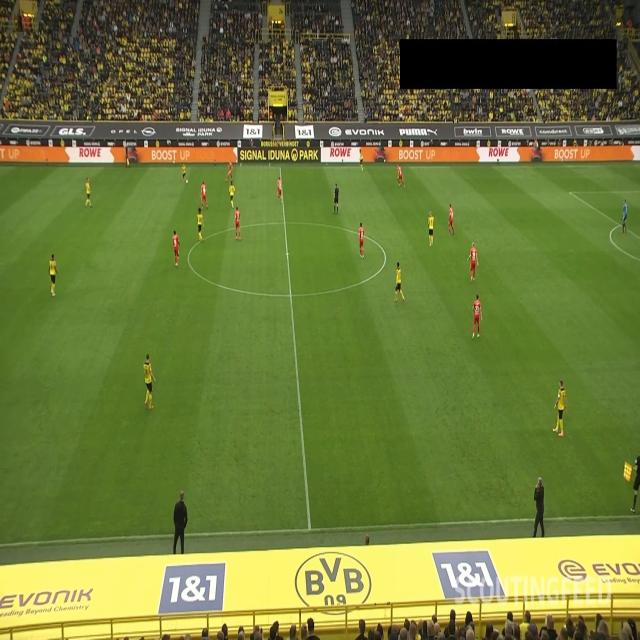ball: (186, 179, 188, 184)
